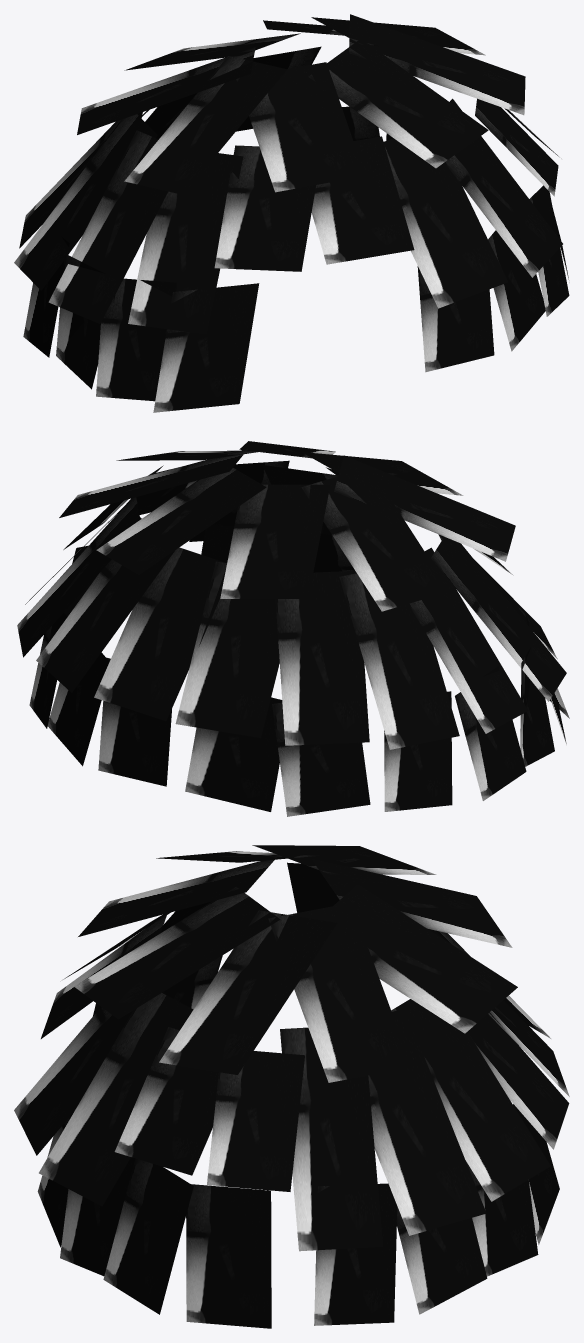
Rendered from house_04_roof.dae.
3 renders of one model, top to bottom at view 1: azimuth 30°, elevation 25°; view 2: azimuth 150°, elevation 25°; view 3: azimuth 270°, elevation 25°, orthographic. The views are drawn at different scales.
Parts seen in each view (by area): view 1: house_04_roof; view 2: house_04_roof; view 3: house_04_roof.
Boxes of the visible parts, x1,y1,x2,y2 form: house_04_roof: (14,14,569,412); house_04_roof: (17,441,569,816); house_04_roof: (14,845,569,1328).
Bounding box in the file's own units: 11.56 × 9.19 × 5.67.
